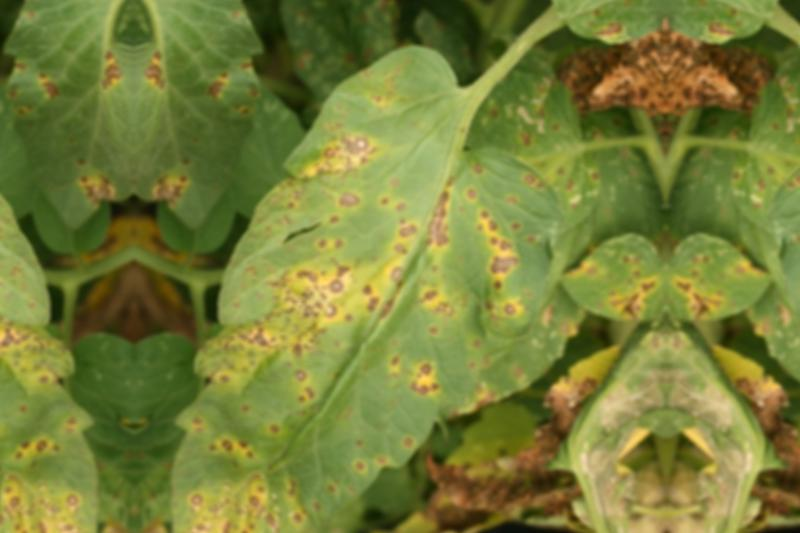Tomato Septoria leaf spot: (174, 48, 557, 533)
